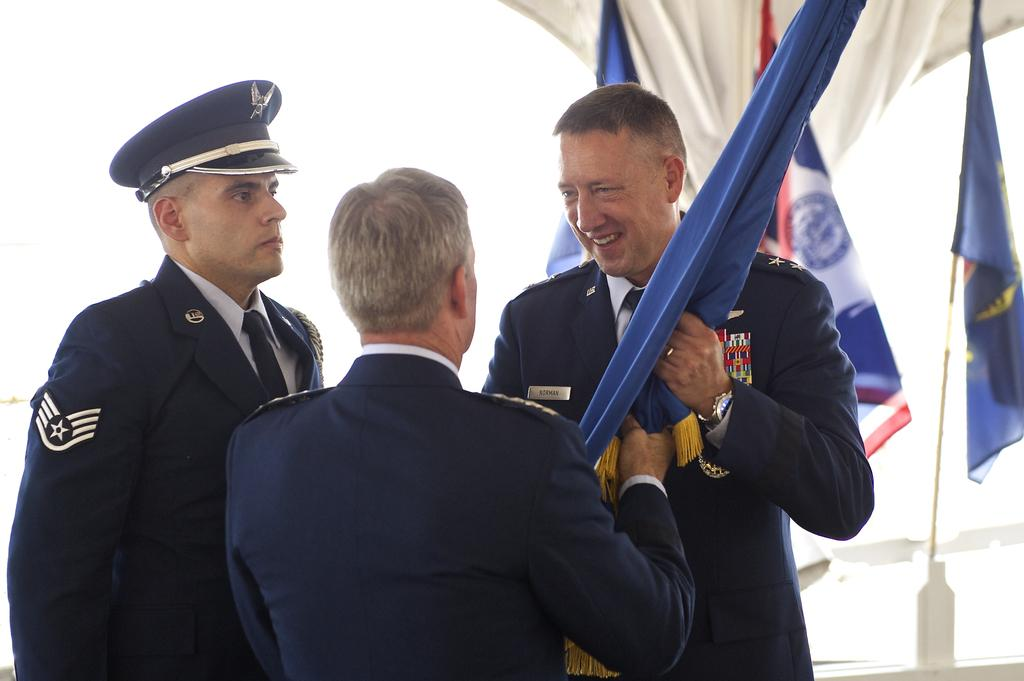Hat: (108, 78, 294, 204)
